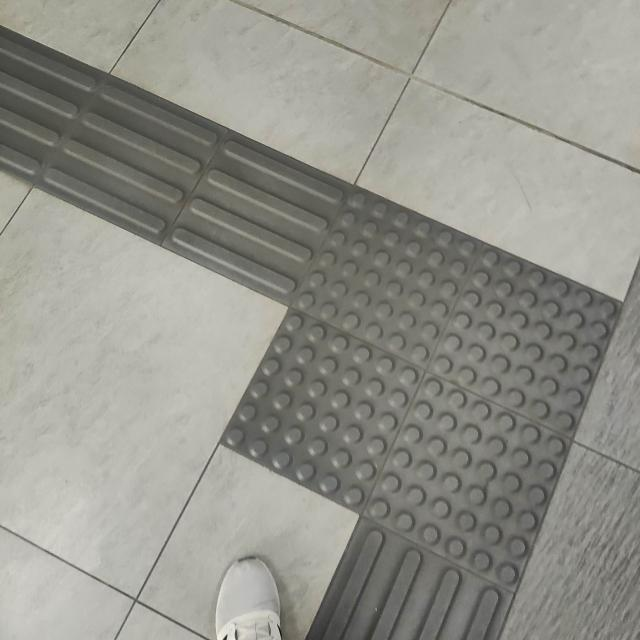kiri: (53, 39, 640, 605)
